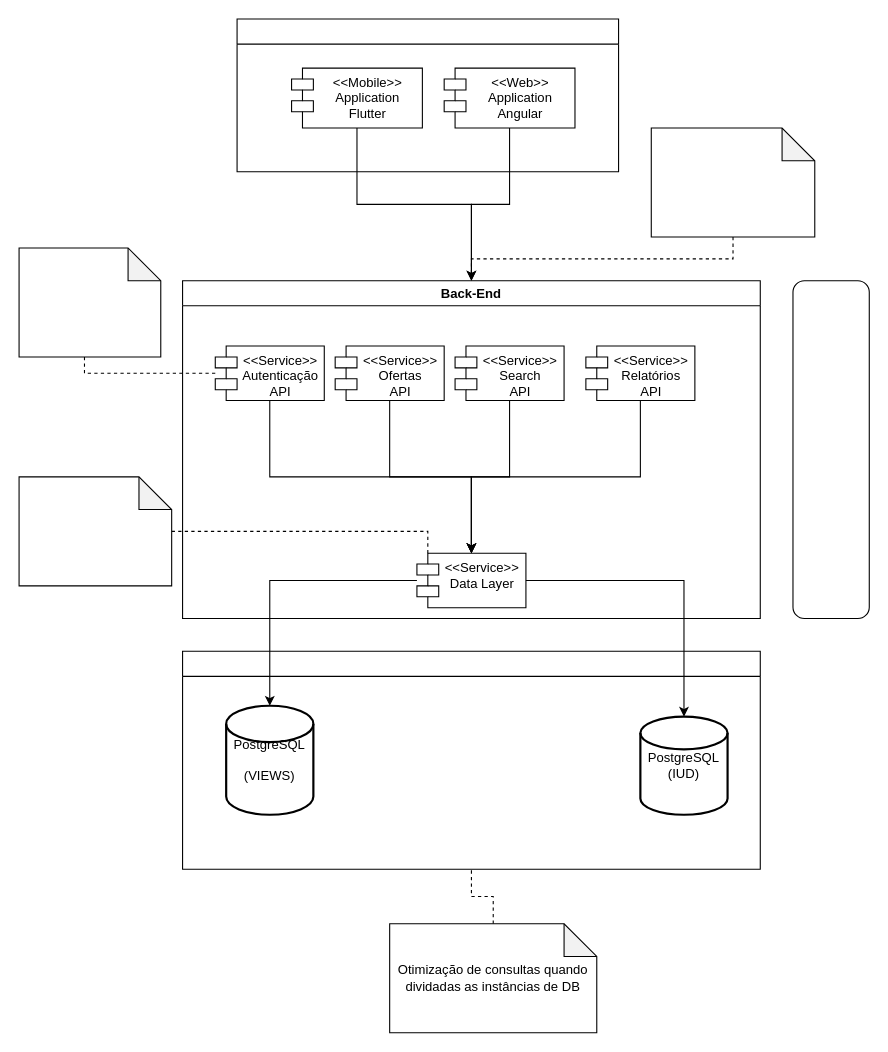
Some shapes in this 888 by 1052 pixel diagram are drawn without their labels. The box of each missing label's shape, as (x1, y1, x2, y2) in pixels:
Application faz conexão com todas as API's: (650, 127, 815, 237)
Data: (181, 650, 760, 869)
este serviço só é acessado pelas API's: (18, 476, 172, 586)
LOGGER: (792, 280, 869, 619)
User Interface (Client Side): (236, 18, 619, 172)
utiliza autenticação própria ou OAuth: (18, 247, 161, 357)
